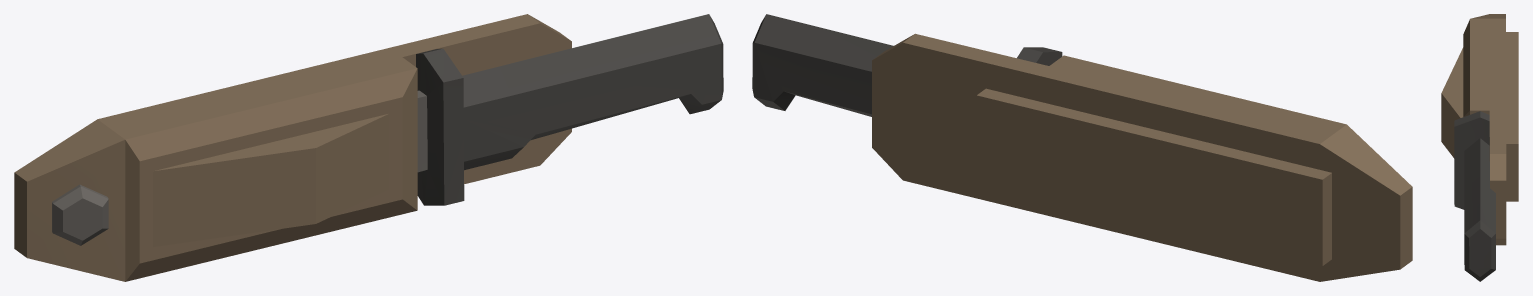
File: Knife_Holster_01_SM.FBX
The picture shows the model from 3 angles, left to right: view 1: azimuth 30°, elevation 25°; view 2: azimuth 150°, elevation 25°; view 3: azimuth 270°, elevation 25°; orthographic projection. The views are drawn at different scales.
Parts seen in each view (by area): view 1: Knife_Holster_01_SM; view 2: Knife_Holster_01_SM; view 3: Knife_Holster_01_SM.
Part boxes in pixels (box(x1,y1,x2,y2)): Knife_Holster_01_SM: box(14, 14, 723, 281); Knife_Holster_01_SM: box(752, 14, 1412, 281); Knife_Holster_01_SM: box(1441, 14, 1518, 281).
Size of what is drawn, in the model's own units: 24.38 by 3.72 by 5.21.
